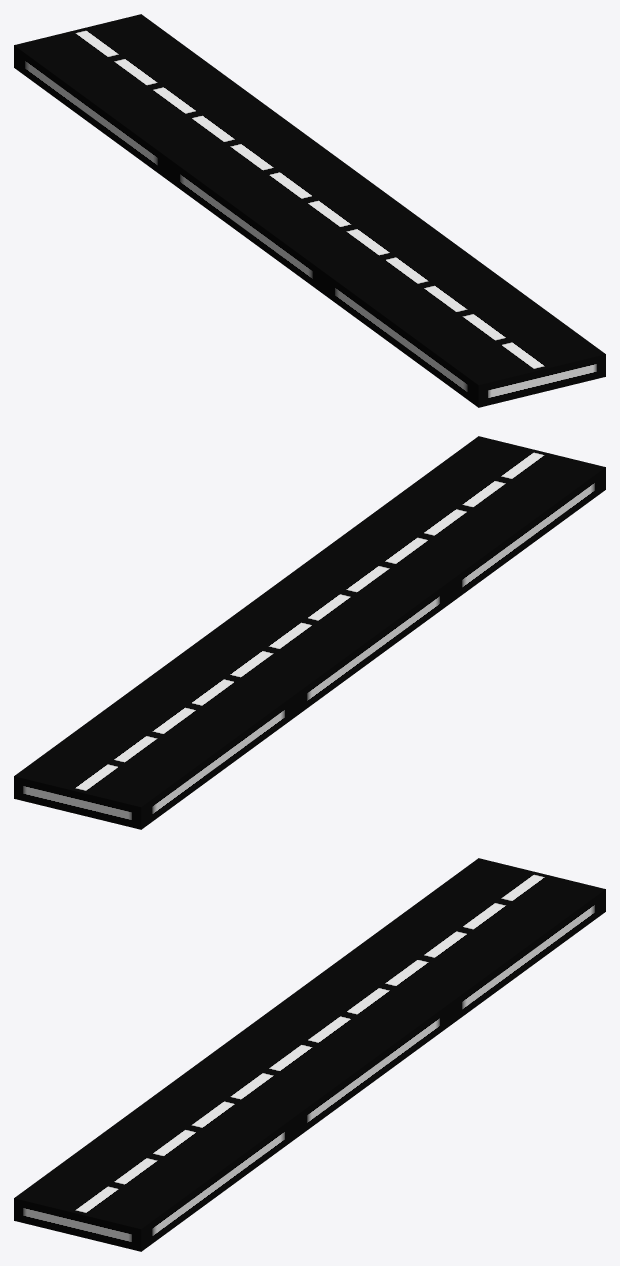
File: recta.fbx
3 renders of one model, top to bottom at view 1: azimuth 30°, elevation 25°; view 2: azimuth 150°, elevation 25°; view 3: azimuth 330°, elevation 25°, orthographic.
Parts seen in each view (by area): view 1: Road01; view 2: Road01; view 3: Road01.
Part boxes in pixels (x1,y1,x2,y2): Road01: (14,14,605,407); Road01: (14,436,605,829); Road01: (14,858,605,1251).
Size of the model in its own units: 118 by 20 by 747.
